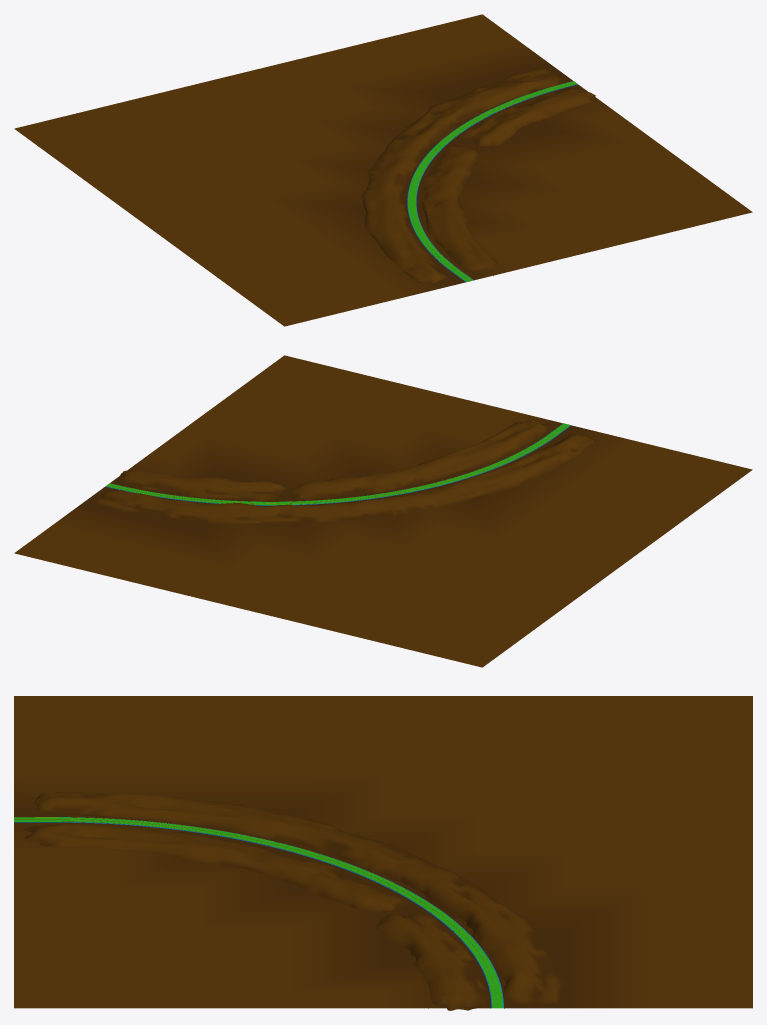
Rendered from block_highway_turn_out_col.fbx.
3 renders of one model, top to bottom at view 1: azimuth 30°, elevation 25°; view 2: azimuth 150°, elevation 25°; view 3: azimuth 270°, elevation 25°, orthographic. The views are drawn at different scales.
Visible parts, largest first — view 1: block_highway_turn_out_col; view 2: block_highway_turn_out_col; view 3: block_highway_turn_out_col.
Part boxes in pixels (box(x1,y1,x2,y2)): block_highway_turn_out_col: box(14, 14, 752, 326); block_highway_turn_out_col: box(14, 355, 752, 667); block_highway_turn_out_col: box(14, 696, 752, 1010).
Size of the model in its own units: 2513 by 50.11 by 2500.
